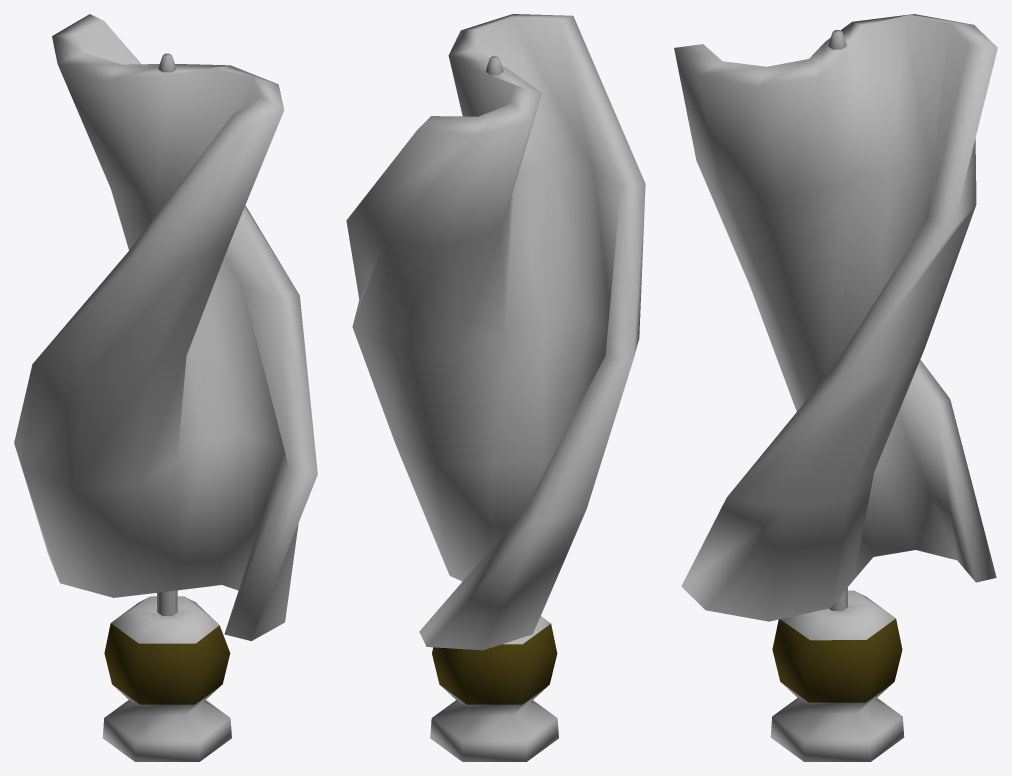
The model's file is SciFiWindTurbine.fbx.
3 renders of one model, left to right at view 1: azimuth 30°, elevation 25°; view 2: azimuth 150°, elevation 25°; view 3: azimuth 270°, elevation 25°, orthographic. The views are drawn at different scales.
Parts seen in each view (by area): view 1: scifi-wind-turbine-main, scifi-wind-turbine-base; view 2: scifi-wind-turbine-main, scifi-wind-turbine-base; view 3: scifi-wind-turbine-main, scifi-wind-turbine-base.
Part boxes in pixels (box(x1,y1,x2,y2)): scifi-wind-turbine-main: box(14, 14, 317, 640); scifi-wind-turbine-base: box(102, 596, 231, 761); scifi-wind-turbine-main: box(346, 14, 645, 650); scifi-wind-turbine-base: box(430, 616, 558, 761); scifi-wind-turbine-main: box(674, 14, 997, 621); scifi-wind-turbine-base: box(770, 590, 904, 761).
Size of the model in its own units: 105 by 254 by 105.
1 material, 1 textured.
